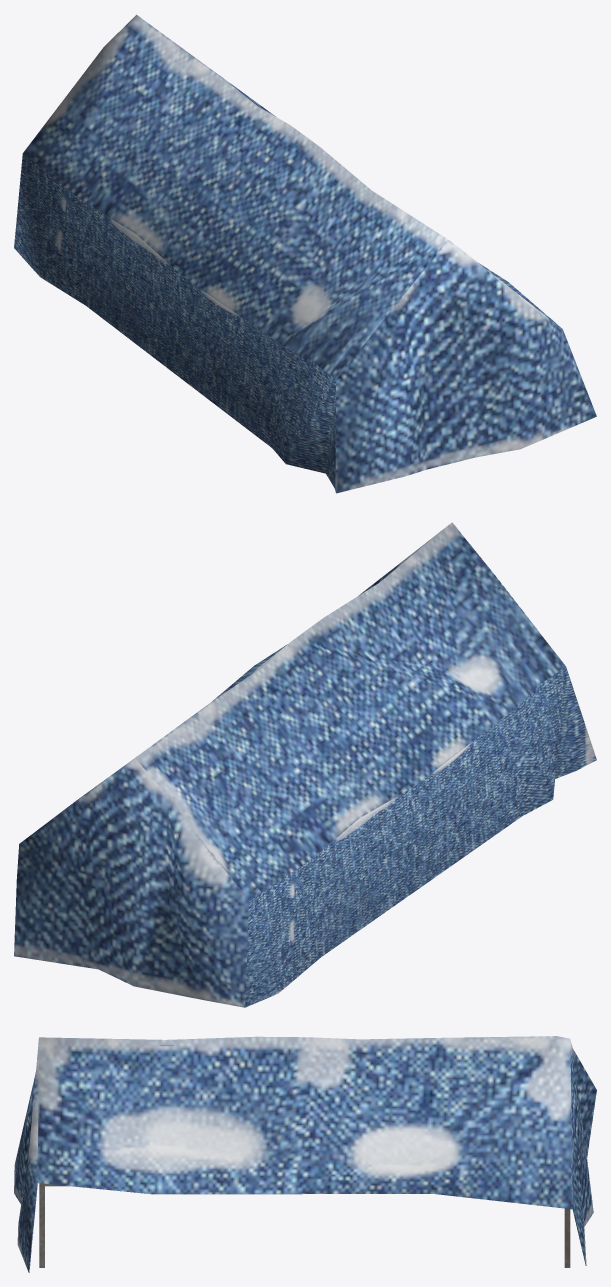
File: tent.glb
3 views of the same model, one above another, from view 1: azimuth 30°, elevation 25°; view 2: azimuth 150°, elevation 25°; view 3: azimuth 270°, elevation 25° (orthographic). The views are drawn at different scales.
Visible parts, largest first — view 1: Plane002; view 2: Plane002; view 3: Plane002, Box007.
Part boxes in pixels (left/top/right/bottom): Plane002: left=14, top=14, right=596, bottom=493; Plane002: left=14, top=522, right=596, bottom=1007; Plane002: left=14, top=1036, right=596, bottom=1272; Box007: left=39, top=1045, right=570, bottom=1267.
Bounding box in the file's own units: 1.43 × 1.1 × 3.1.
Materials: 1 (1 with a texture image).
